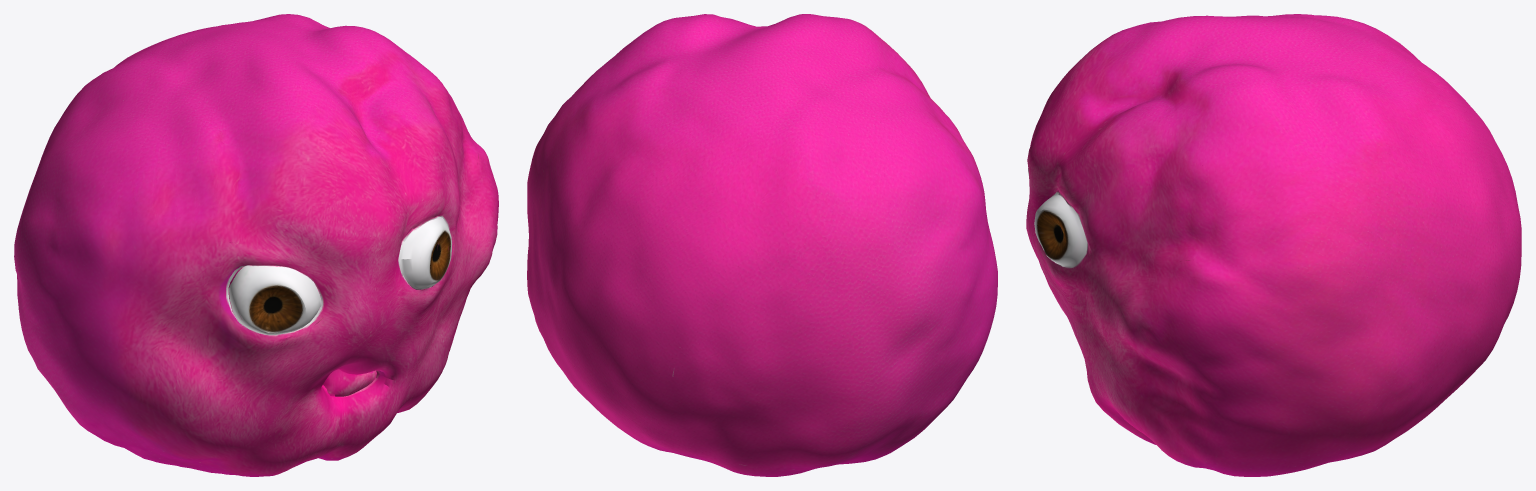
The picture shows the model from 3 angles, left to right: view 1: azimuth 30°, elevation 25°; view 2: azimuth 150°, elevation 25°; view 3: azimuth 270°, elevation 25°; orthographic projection. The views are drawn at different scales.
Parts seen in each view (by area): view 1: Meshy_AI_pink_squishy_monster_0831082029_image-to-3d-texture; view 2: Meshy_AI_pink_squishy_monster_0831082029_image-to-3d-texture; view 3: Meshy_AI_pink_squishy_monster_0831082029_image-to-3d-texture.
Boxes of the visible parts, x1,y1,x2,y2 form: Meshy_AI_pink_squishy_monster_0831082029_image-to-3d-texture: (14,14,498,476); Meshy_AI_pink_squishy_monster_0831082029_image-to-3d-texture: (527,14,997,476); Meshy_AI_pink_squishy_monster_0831082029_image-to-3d-texture: (1026,14,1521,476).
Size of the model in its own units: 1.9 by 1.72 by 1.84.
1 material, 1 textured.
